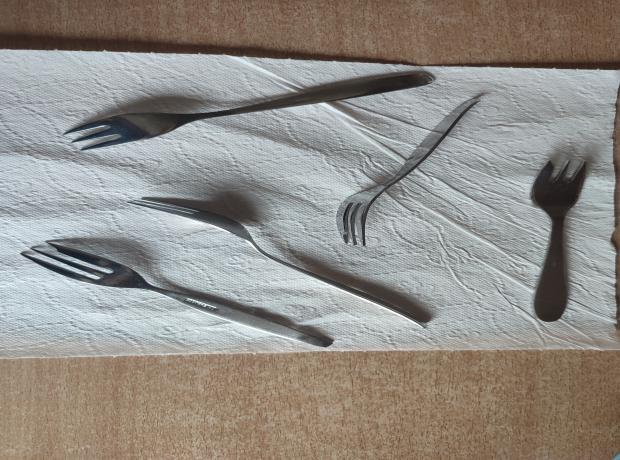metal: (128, 196, 427, 329), (21, 243, 334, 347), (61, 70, 440, 150), (334, 96, 480, 247), (529, 160, 592, 322)
